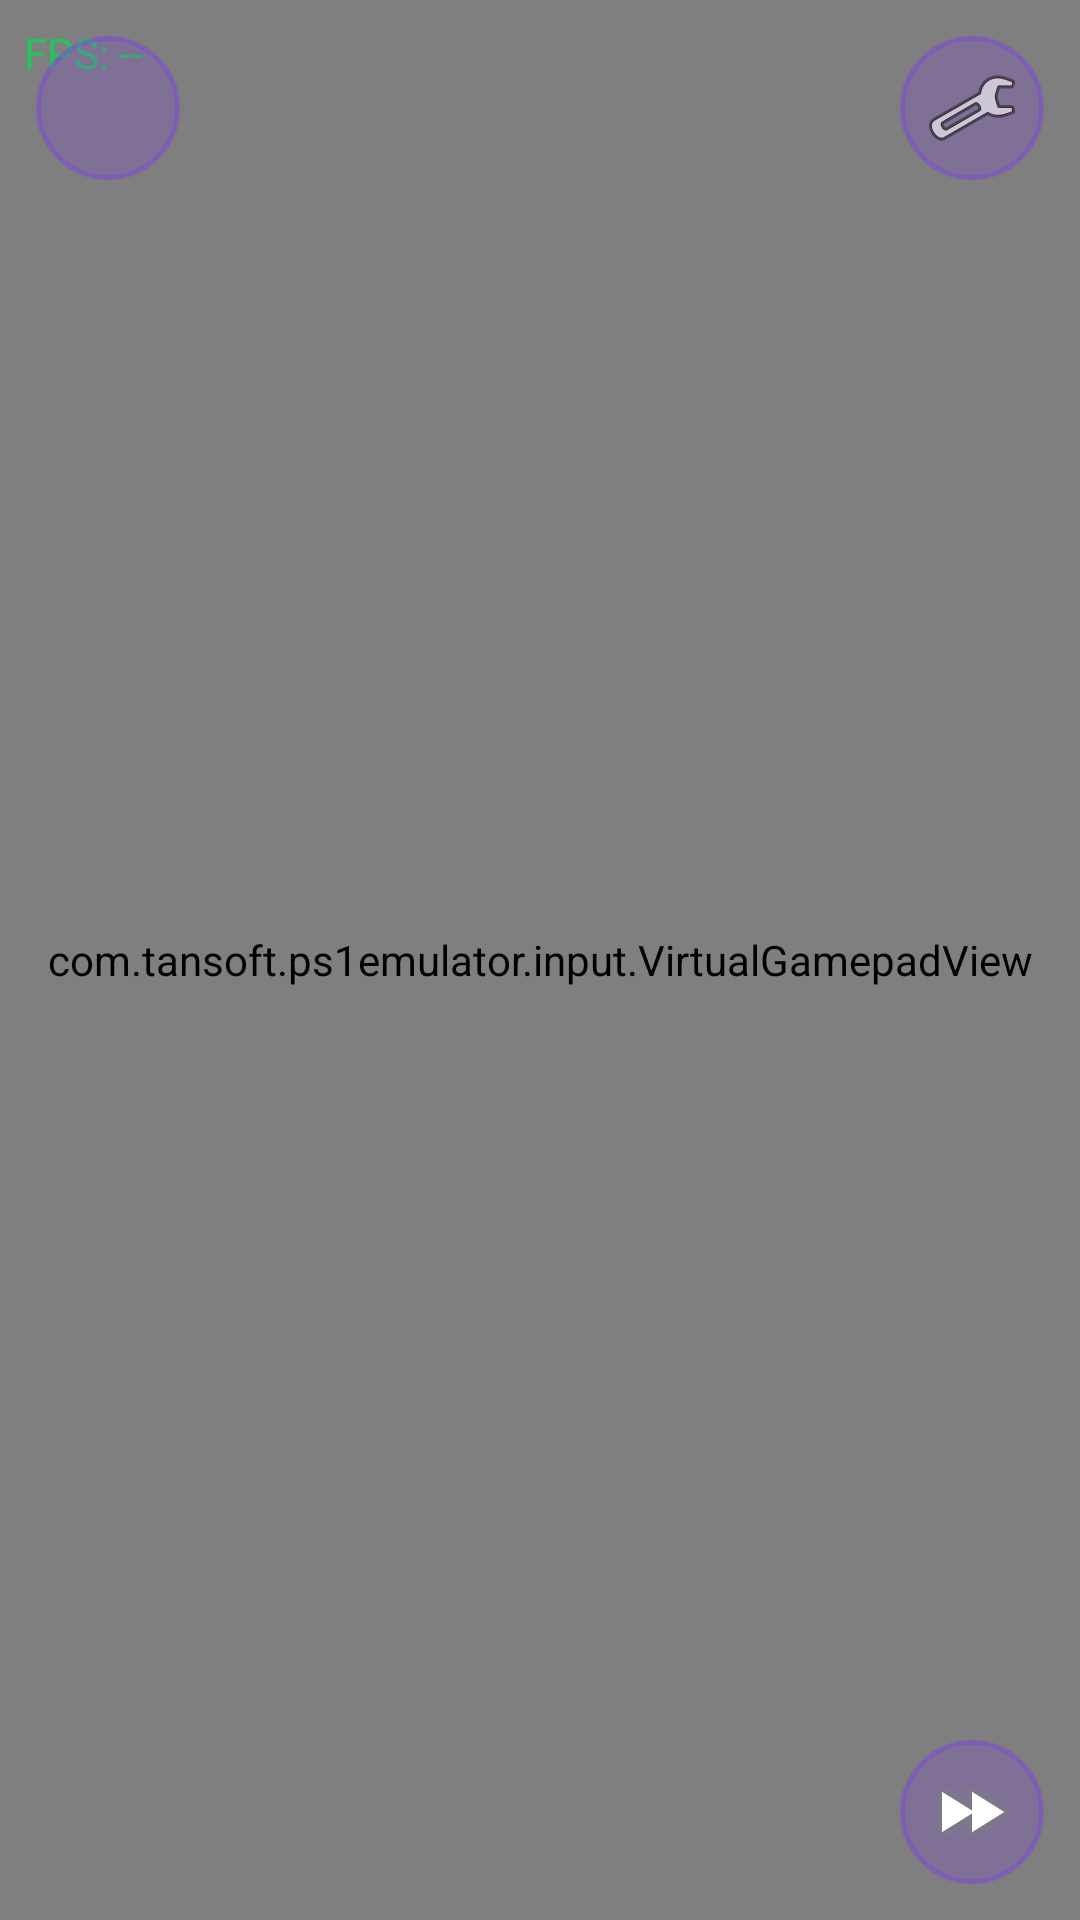

Named icons in this screenshot (1080 x 1920) and their centers, point (x, y):
Fast Forward: point (972, 1812)
